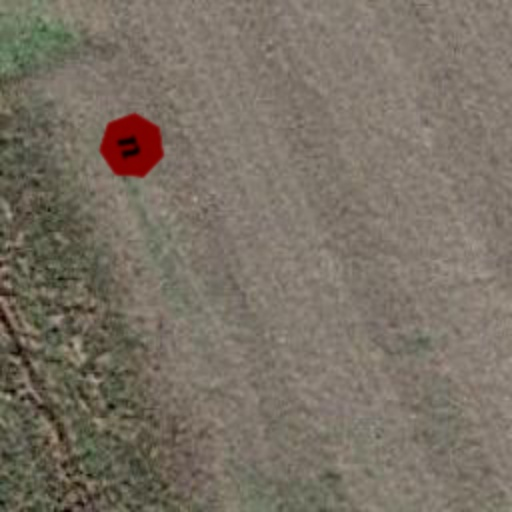heptagon: (88, 102, 176, 190)
